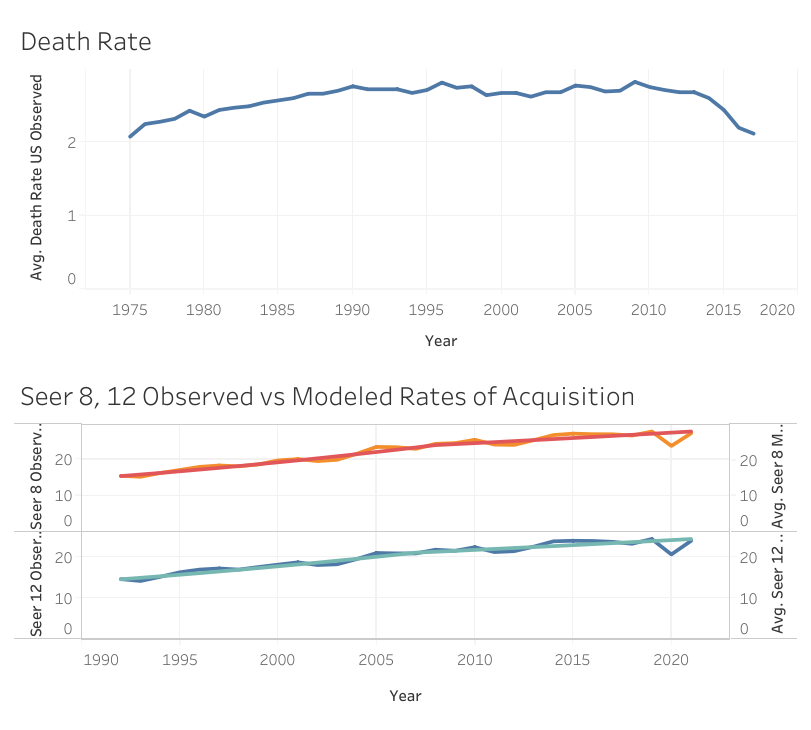

The dashboard page shown, as its layout file describes it:
{"tool":"tableau","page":{"name":"Basic Statistics ","canvas":[650,860],"ordinal":0},"visuals":[{"type":"worksheet","title":"Death Rate","mark":"Automatic","rows":["Death Rate US Observed"],"cols":["Year"],"box":[8,9,634,421]},{"type":"worksheet","title":"Seer 8  vs 12 Observed","mark":"Automatic","rows":["Seer 8 Observed","Seer 8 Modeled Trend","Seer 12 Observed","Seer 12 Modeled Trend"],"cols":["Year"],"box":[8,430,634,421]}]}

Visuals, with their boxes on the page's 650x860 design canvas (x1, y1, x2, y2). These are canvas units, not pixel positions in the 811x730 screenshot, which may show the page scaled, cropped or inside an application window:
"Death Rate" worksheet: rect(8, 9, 642, 430)
"Seer 8  vs 12 Observed" worksheet: rect(8, 430, 642, 851)
